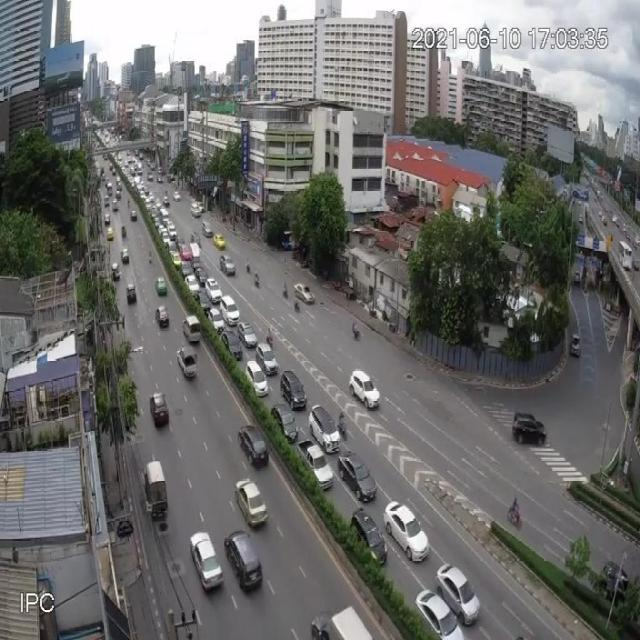Car: (226, 519, 264, 601), (435, 562, 479, 625), (385, 501, 429, 561), (414, 588, 464, 640), (350, 507, 387, 567), (189, 530, 223, 592), (298, 439, 334, 492), (339, 452, 377, 502), (234, 477, 268, 528), (308, 404, 341, 453), (238, 424, 270, 468), (349, 369, 381, 410), (601, 560, 630, 602), (512, 411, 547, 445), (270, 402, 298, 442), (280, 369, 306, 408), (246, 360, 269, 397), (255, 341, 278, 375), (150, 391, 170, 427), (177, 346, 198, 380), (220, 328, 243, 359), (238, 320, 258, 349), (182, 314, 201, 344), (293, 282, 316, 306), (221, 297, 240, 326), (207, 306, 224, 333), (219, 254, 236, 276), (205, 278, 221, 300), (213, 230, 229, 251), (156, 304, 169, 327), (570, 334, 581, 356), (156, 276, 168, 296), (126, 283, 137, 304), (201, 220, 213, 237), (111, 261, 120, 278), (121, 247, 129, 264)
Cycle: (350, 316, 364, 342), (282, 280, 292, 302), (145, 244, 154, 266), (252, 269, 262, 288), (245, 256, 252, 274)
Van: (144, 456, 168, 514)
